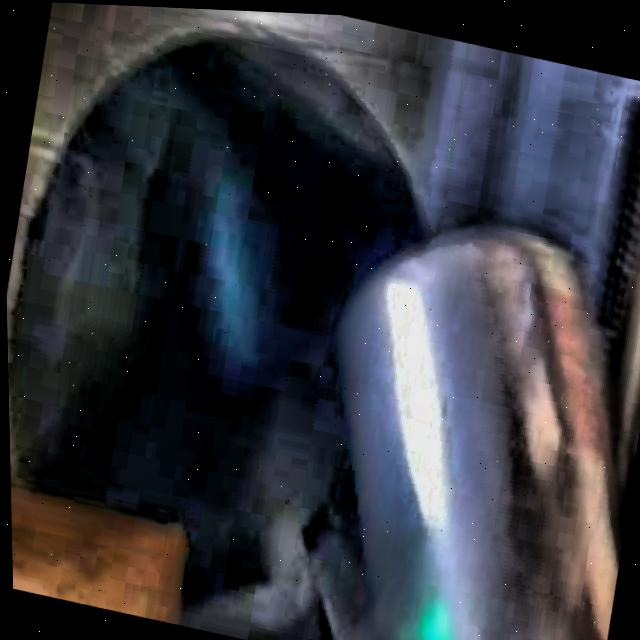metal: (342, 223, 619, 640)
